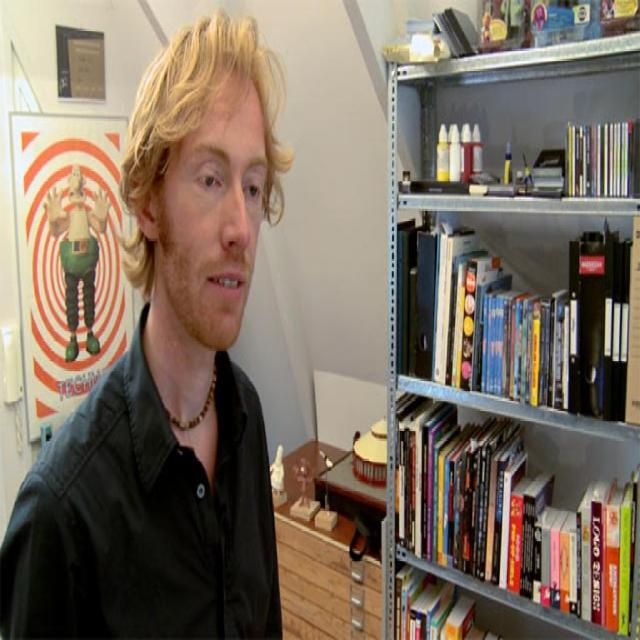Face: (156, 57, 265, 351)
